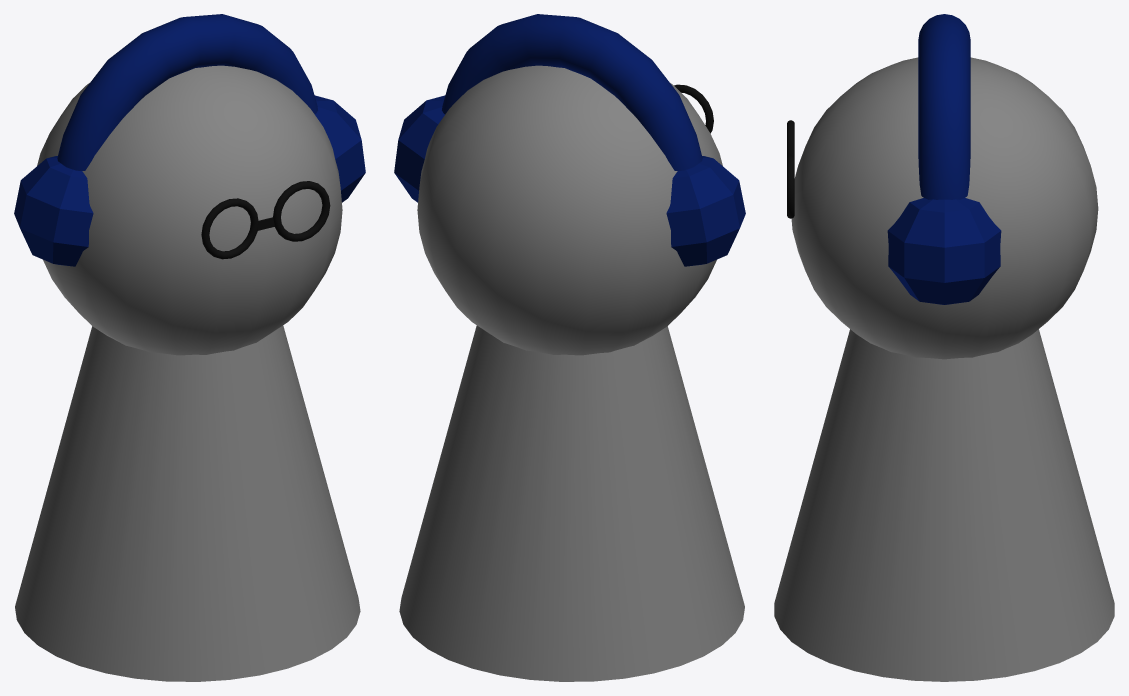
File: head.obj
3 views of the same model, side by side, from view 1: azimuth 30°, elevation 25°; view 2: azimuth 150°, elevation 25°; view 3: azimuth 270°, elevation 25° (orthographic).
Parts seen in each view (by area): view 1: pCylinder1, pSphere1, pTorus3, pSphere4, pSphere3, pTorus5, pTorus4; view 2: pCylinder1, pSphere1, pTorus3, pSphere4, pSphere3; view 3: pCylinder1, pSphere1, pSphere3, pTorus3.
Boxes of the visible parts, bbox=[...] form: pCylinder1: bbox=[15, 325, 360, 681]; pSphere1: bbox=[37, 65, 342, 355]; pTorus3: bbox=[57, 14, 317, 170]; pSphere4: bbox=[14, 156, 93, 266]; pSphere3: bbox=[314, 95, 365, 202]; pTorus5: bbox=[257, 181, 330, 241]; pTorus4: bbox=[201, 198, 258, 259]; pCylinder1: bbox=[399, 325, 744, 681]; pSphere1: bbox=[417, 65, 722, 355]; pTorus3: bbox=[442, 14, 702, 170]; pSphere4: bbox=[666, 156, 745, 266]; pSphere3: bbox=[394, 95, 445, 202]; pCylinder1: bbox=[774, 329, 1114, 681]; pSphere1: bbox=[791, 57, 1098, 359]; pSphere3: bbox=[887, 198, 1001, 304]; pTorus3: bbox=[918, 14, 970, 199].
Bounding box in the file's own units: 1.49 × 2.48 × 1.31.
